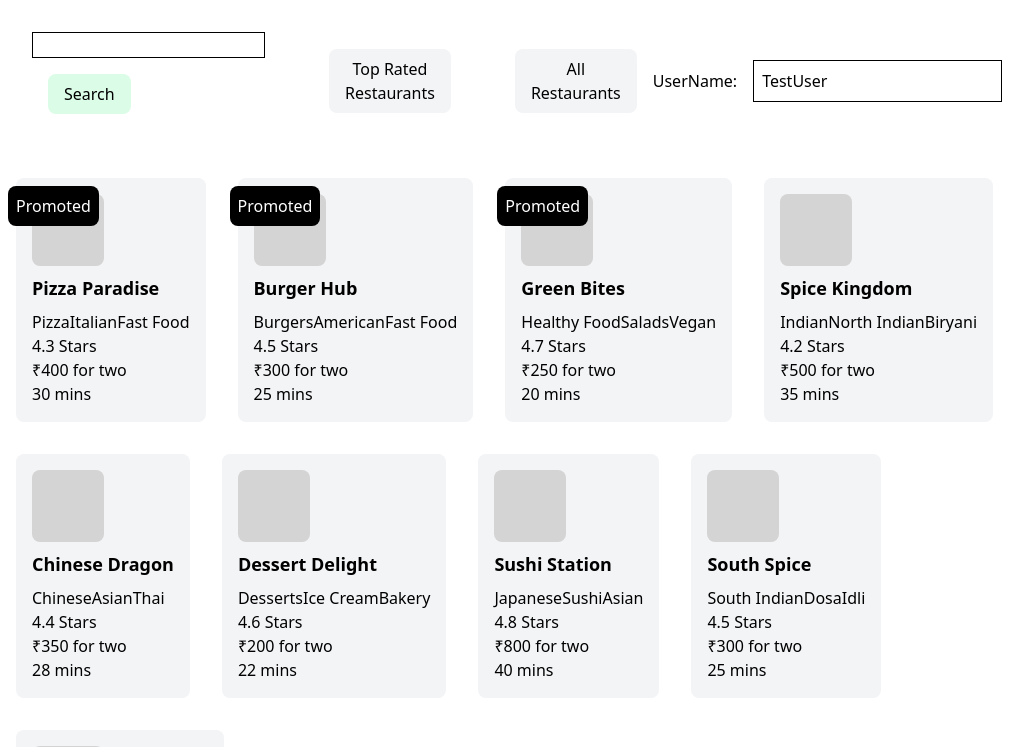
Test: Should render Body component with search
Type "Pizza" into the field with test id "search-input" at (148, 45), box x1=32 y1=32 x2=265 y2=58
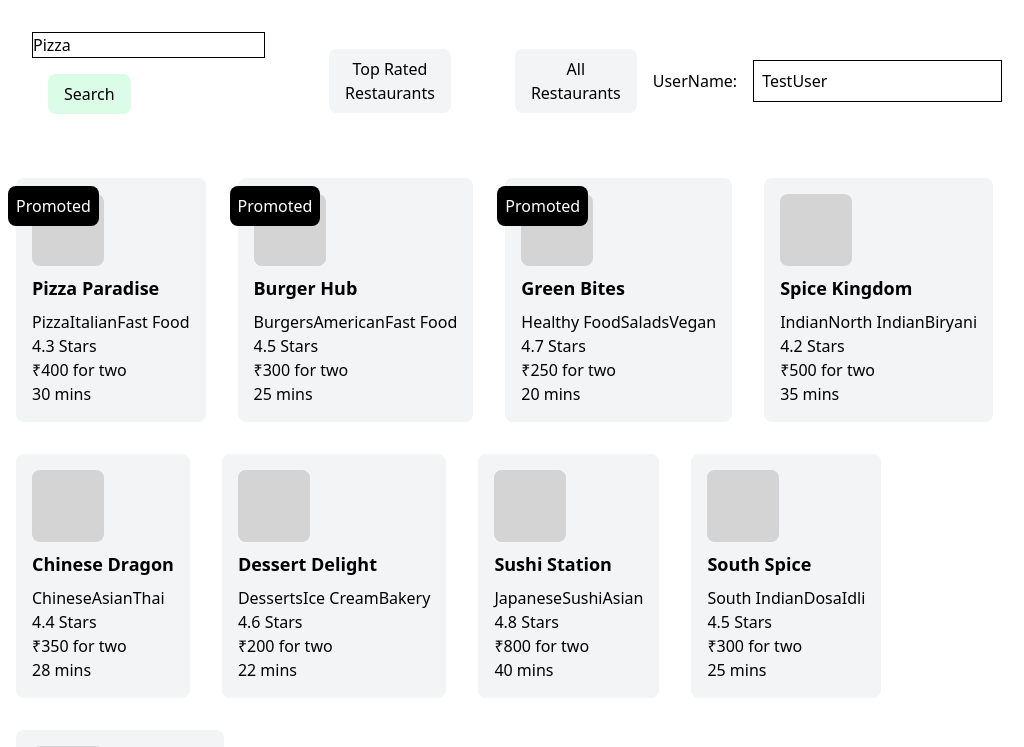
Click the button "Search" at (89, 94), box x1=48 y1=74 x2=131 y2=114
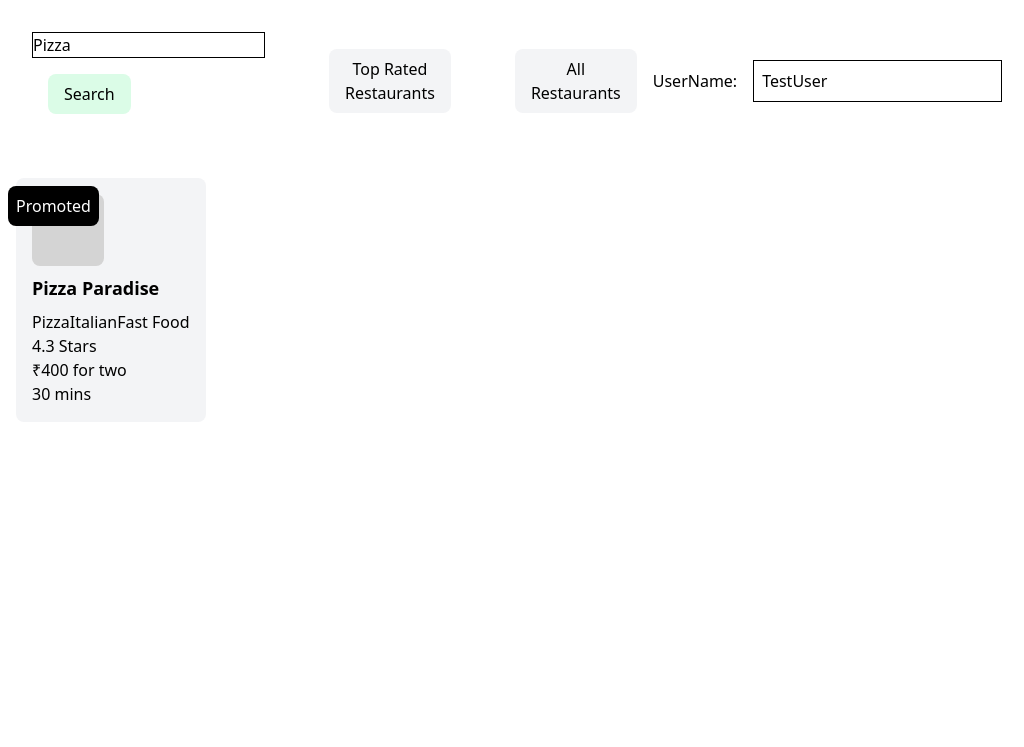
Result: the number of elements with test id "restaurant-card" is 1 at x1=16 y1=178 x2=206 y2=422
